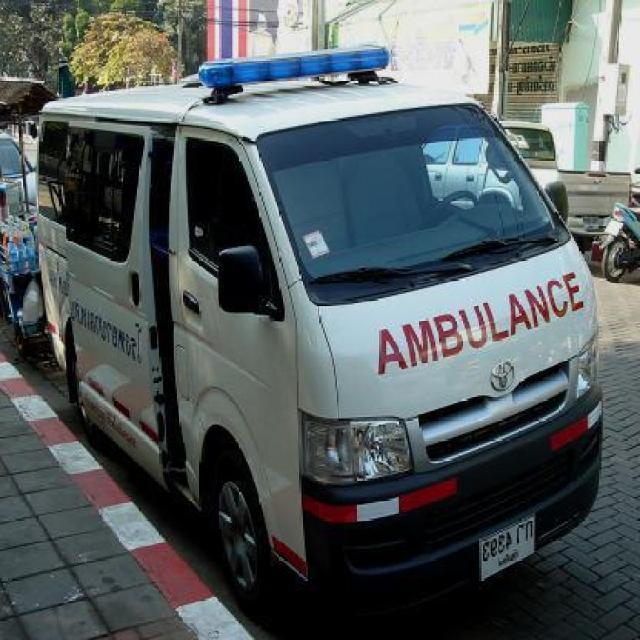emergency: (32, 41, 606, 614)
